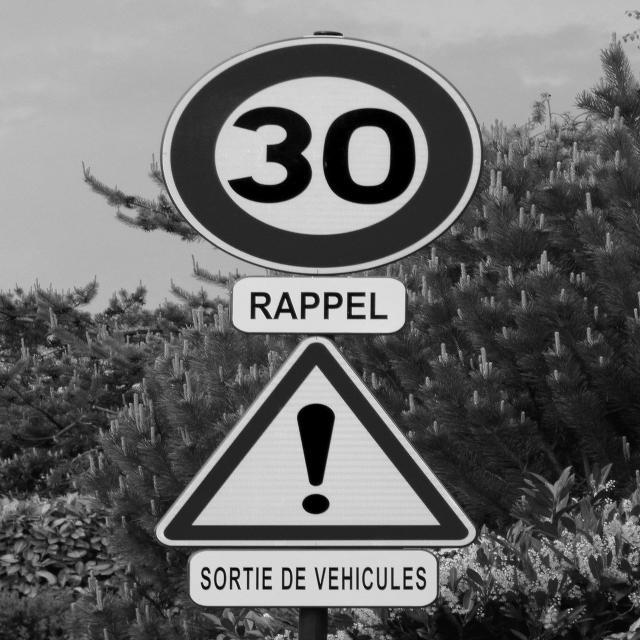danger: (148, 334, 486, 548)
speed_30: (169, 32, 484, 269)
